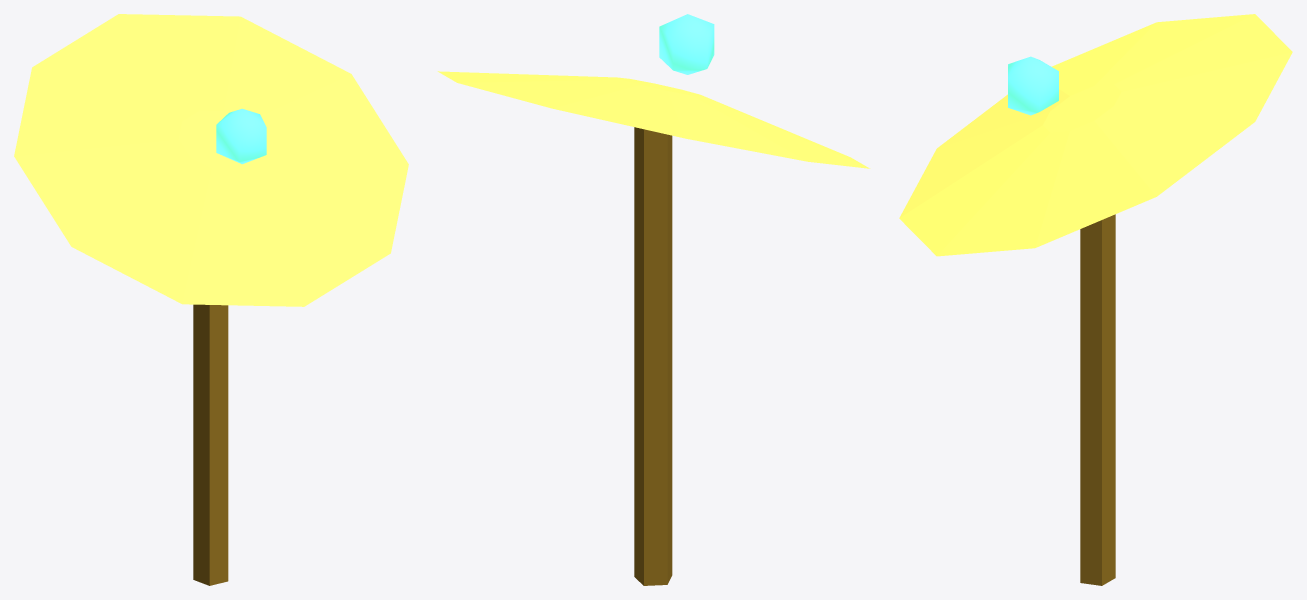
The model's file is dc_abs_dish.glb.
3 views of the same model, side by side, from view 1: azimuth 30°, elevation 25°; view 2: azimuth 150°, elevation 25°; view 3: azimuth 270°, elevation 25° (orthographic). The views are drawn at different scales.
Visible parts, largest first — view 1: part.dc_abs_dish; view 2: part.dc_abs_dish; view 3: part.dc_abs_dish.
Part boxes in pixels (x1,y1,x2,y2): part.dc_abs_dish: [14, 14, 408, 585]; part.dc_abs_dish: [437, 14, 870, 585]; part.dc_abs_dish: [899, 14, 1292, 585].
Size of the model in its own units: 0.3804 by 0.5345 by 0.3625.
